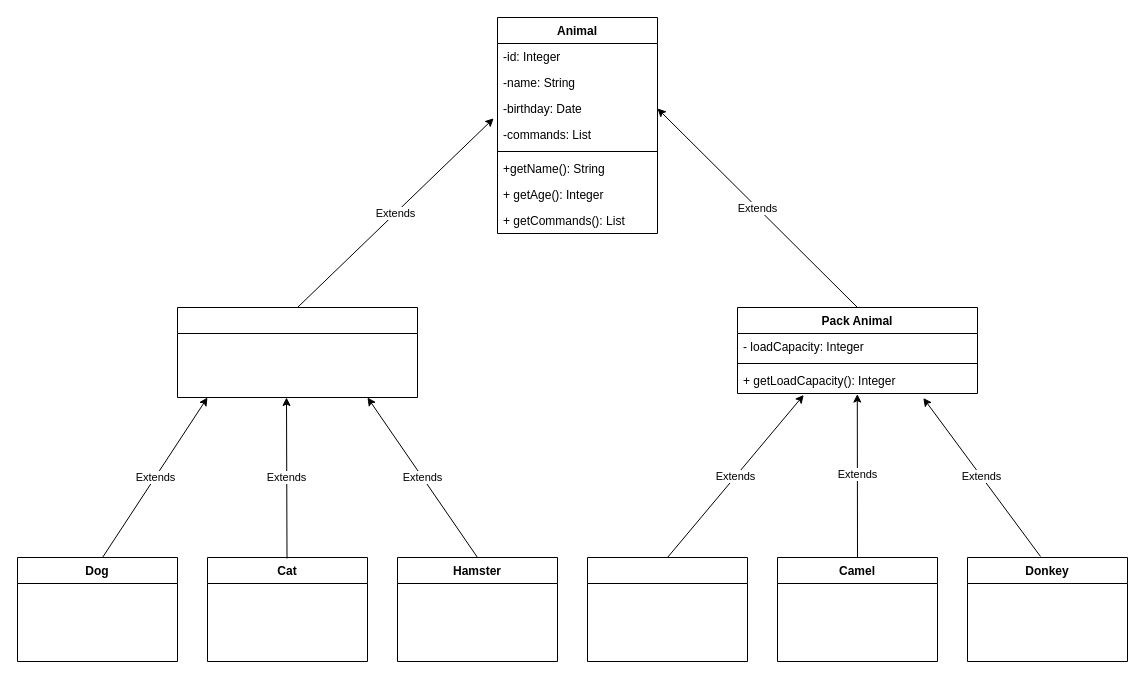
This 1145x679 diagram has some shape labels left out. Each missing label, with the centre of its shape:
Horse: the point at 667,609
Pet: the point at 297,352
